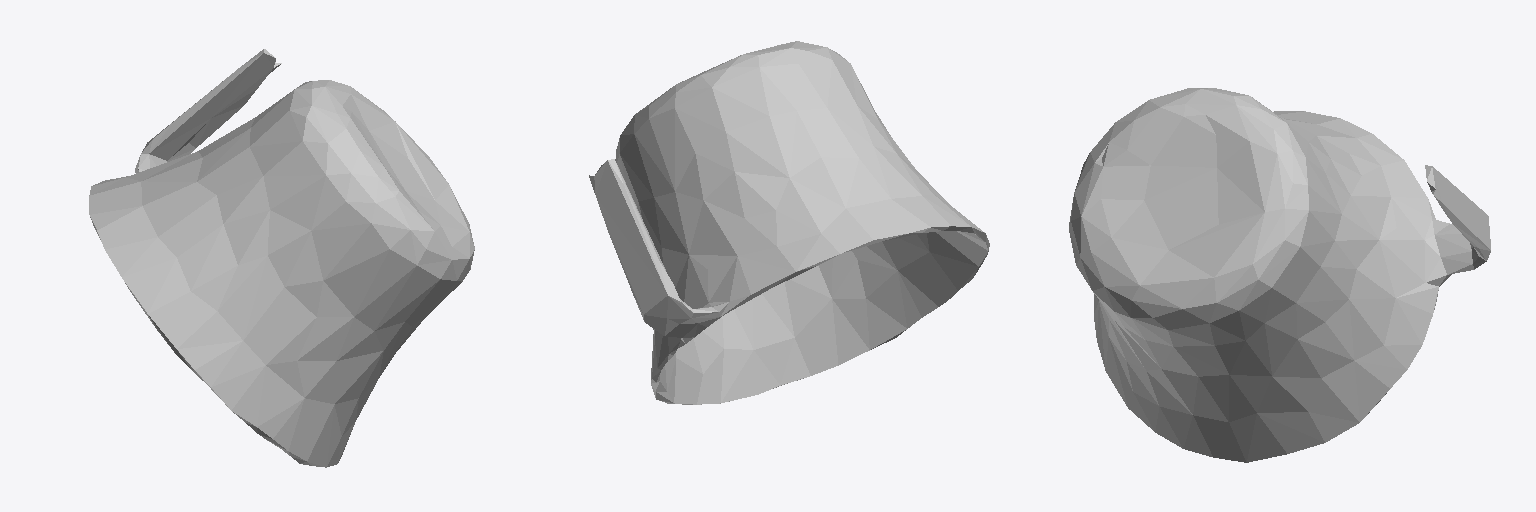
Rendered from mug2.obj.
The picture shows the model from 3 angles: view 1: azimuth 30°, elevation 25°; view 2: azimuth 150°, elevation 25°; view 3: azimuth 270°, elevation 25°; orthographic projection.
Visible parts, largest first — view 1: GreenCup_800_tex; view 2: GreenCup_800_tex; view 3: GreenCup_800_tex.
Boxes of the visible parts, <box> form: GreenCup_800_tex: <box>89,49,474,467</box>; GreenCup_800_tex: <box>589,41,989,404</box>; GreenCup_800_tex: <box>1069,88,1490,462</box>.
Size of the model in its own units: 0.2293 by 0.2284 by 0.2487.